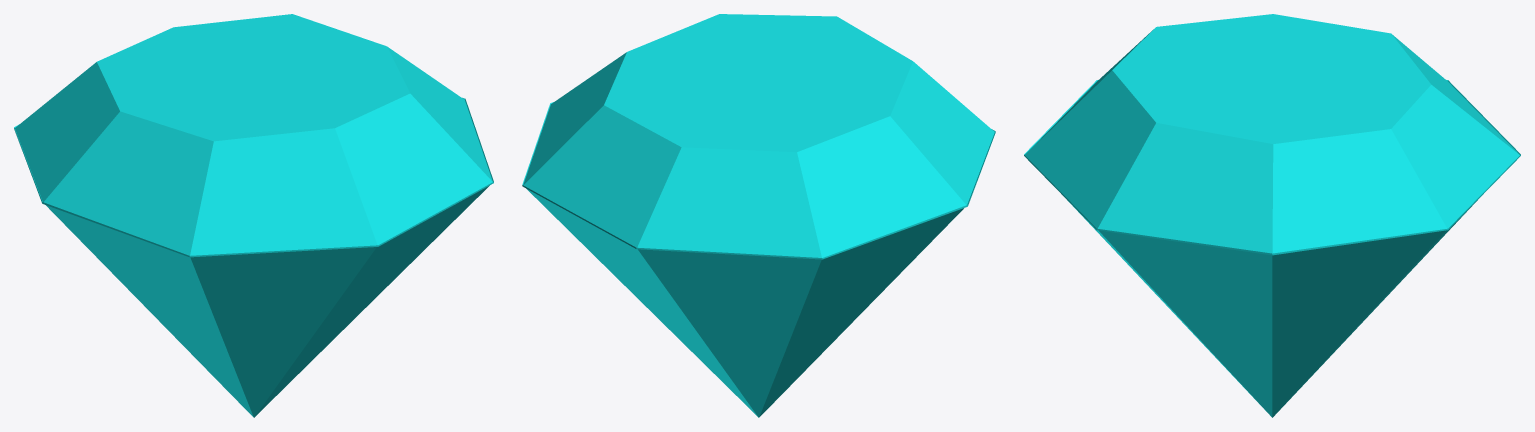
File: DIAMOND.fbx
The picture shows the model from 3 angles, left to right: view 1: azimuth 30°, elevation 25°; view 2: azimuth 150°, elevation 25°; view 3: azimuth 270°, elevation 25°; orthographic projection.
Parts seen in each view (by area): view 1: Cylinder; view 2: Cylinder; view 3: Cylinder.
Part boxes in pixels (x1,y1,x2,y2): Cylinder: (14,14,493,417); Cylinder: (522,14,995,417); Cylinder: (1024,14,1520,417).
Size of the model in its own units: 471 by 370 by 478.
